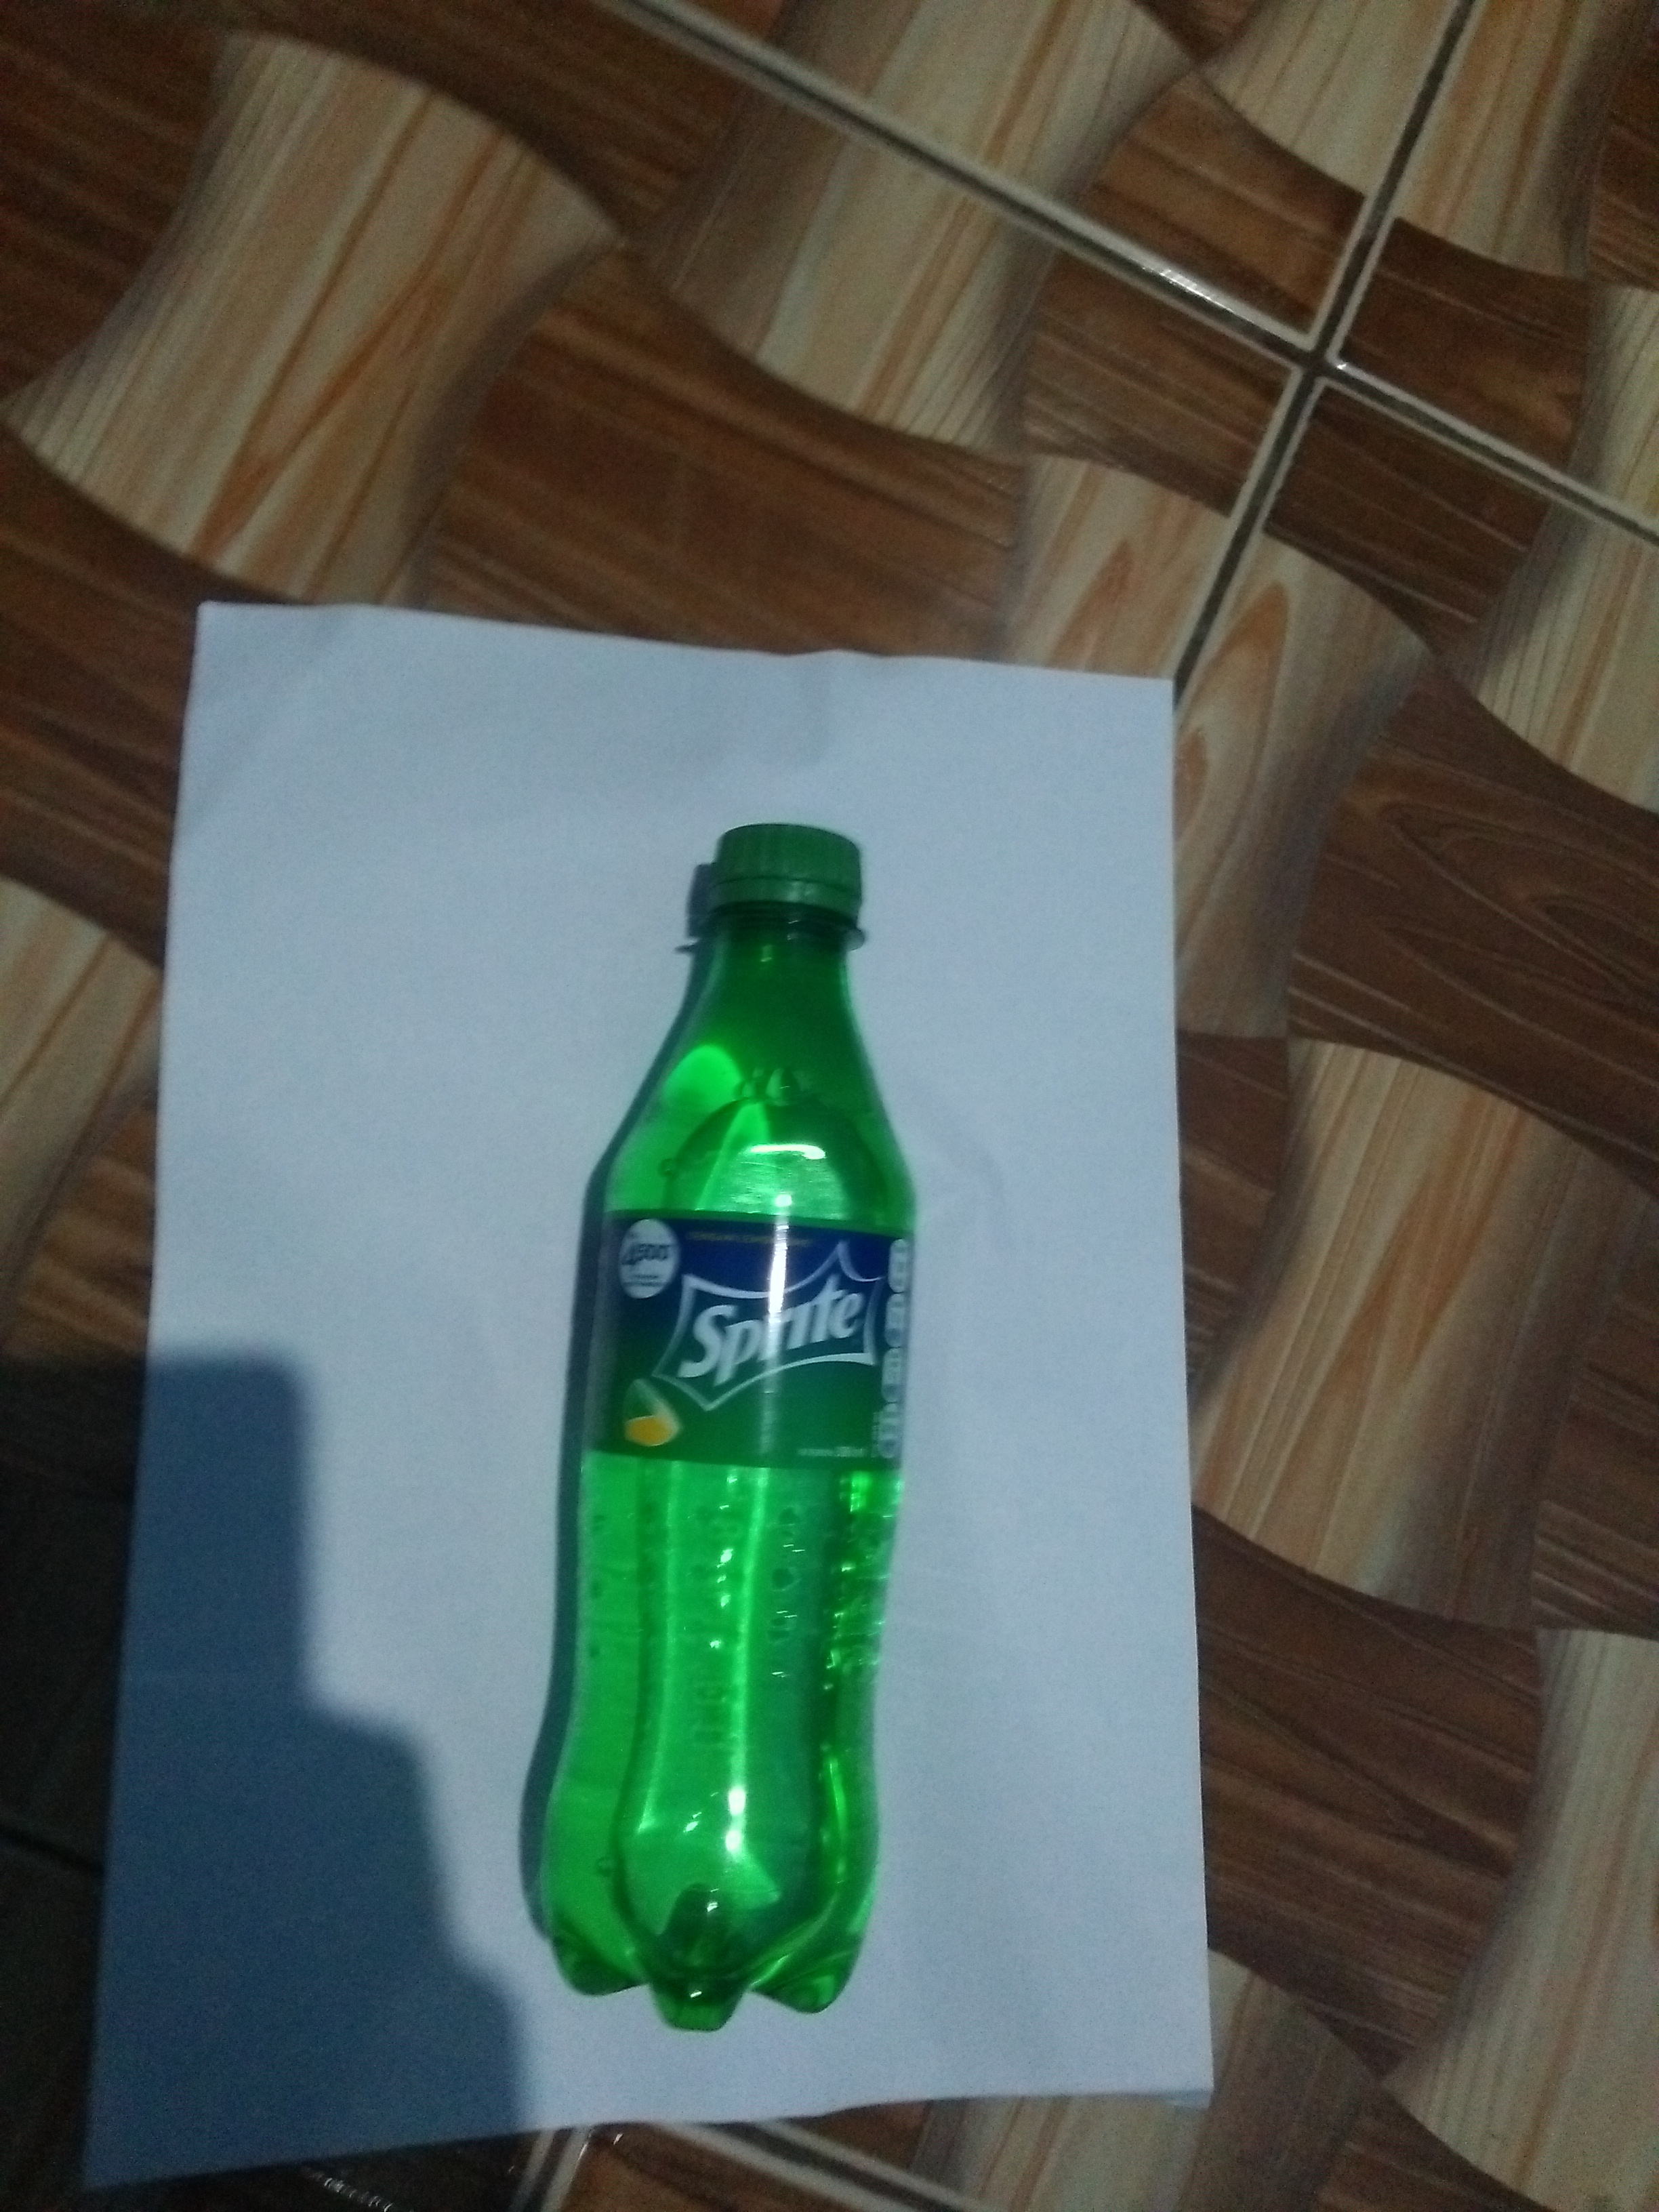Sprite: (511, 815, 960, 2052)
